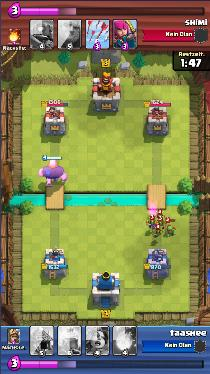ally_giant: (39, 160, 68, 187)
enemy_goblin: (153, 226, 163, 237), (146, 216, 156, 226), (156, 211, 165, 222), (156, 219, 164, 227)
enemy_spear_goblin: (166, 225, 177, 237)
